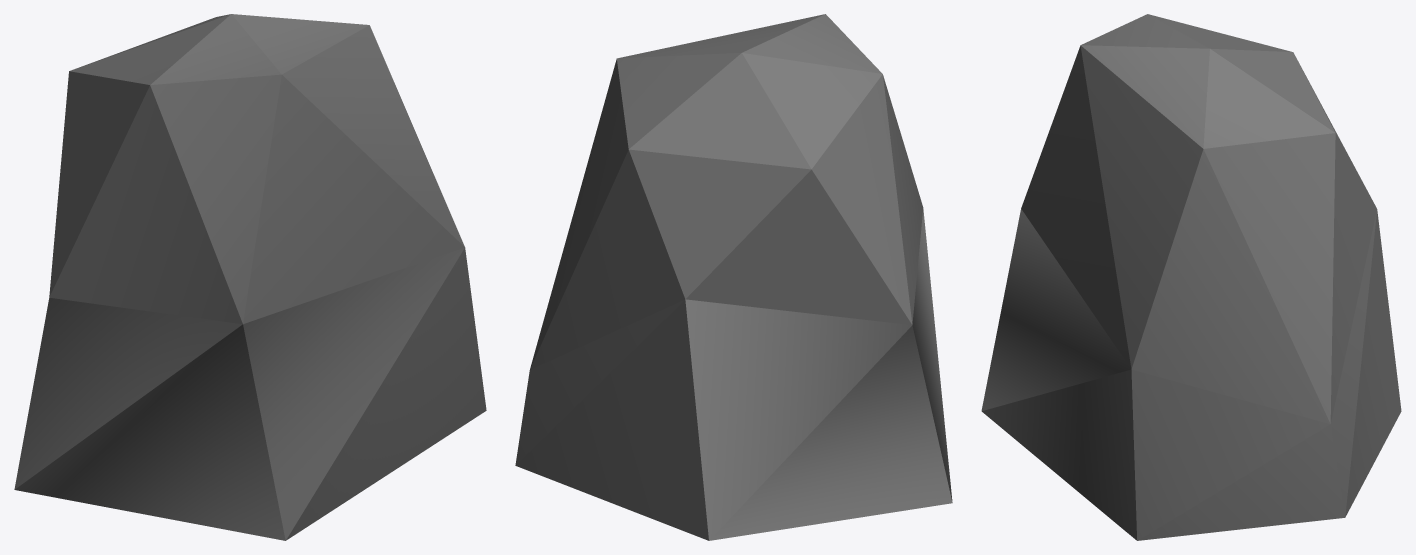
File: rock.glb
3 renders of one model, left to right at view 1: azimuth 30°, elevation 25°; view 2: azimuth 150°, elevation 25°; view 3: azimuth 270°, elevation 25°, orthographic. The views are drawn at different scales.
Parts seen in each view (by area): view 1: rock; view 2: rock; view 3: rock.
Boxes of the visible parts, box(x1,y1,x2,y2) form: rock: box(14, 14, 486, 540); rock: box(515, 14, 952, 540); rock: box(981, 14, 1401, 540).
Size of the model in its own units: 0.964 by 0.8907 by 0.8616.
1 material, 1 textured.
